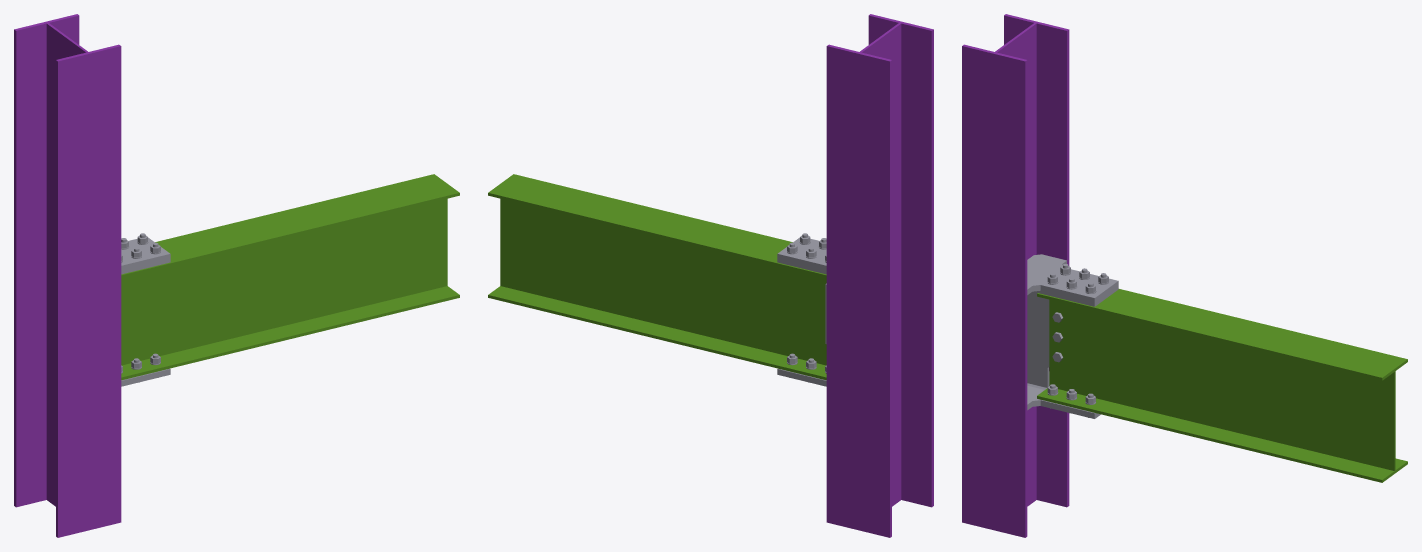
Rendered from Flange Plated Moment GLB.glb.
3 renders of one model, left to right at view 1: azimuth 30°, elevation 25°; view 2: azimuth 150°, elevation 25°; view 3: azimuth 330°, elevation 25°, orthographic.
Parts seen in each view (by area): view 1: FamilyInstance Columns COLUMN <1240810 COLUMN<, FamilyInstance Structural Framing BEAM <1241227 BEAM<, FamilyInstance Structural Framing PLATE 209 <1241830 PLATE 2; view 2: FamilyInstance Columns COLUMN <1240810 COLUMN<, FamilyInstance Structural Framing BEAM <1241227 BEAM<, FamilyInstance Structural Framing PLATE 209 <1241830 PLATE 2; view 3: FamilyInstance Columns COLUMN <1240810 COLUMN<, FamilyInstance Structural Framing BEAM <1241227 BEAM<, FamilyInstance Structural Framing PLATE 209 <1241830 PLATE 2, FamilyInstance Structural Framing PLATE 209 <1241829 PLATE 2, FamilyInstance Specialty Equipment BOLT 3/4"DIA A325 3" <124.
Boxes of the visible parts, bbox=[...] form: FamilyInstance Columns COLUMN <1240810 COLUMN<: bbox=[14, 14, 160, 537]; FamilyInstance Structural Framing BEAM <1241227 BEAM<: bbox=[121, 174, 459, 380]; FamilyInstance Structural Framing PLATE 209 <1241830 PLATE 2: bbox=[121, 237, 170, 271]; FamilyInstance Columns COLUMN <1240810 COLUMN<: bbox=[787, 14, 933, 537]; FamilyInstance Structural Framing BEAM <1241227 BEAM<: bbox=[488, 174, 826, 380]; FamilyInstance Structural Framing PLATE 209 <1241830 PLATE 2: bbox=[777, 237, 826, 271]; FamilyInstance Columns COLUMN <1240810 COLUMN<: bbox=[962, 14, 1096, 537]; FamilyInstance Structural Framing BEAM <1241227 BEAM<: bbox=[1037, 289, 1407, 482]; FamilyInstance Structural Framing PLATE 209 <1241830 PLATE 2: bbox=[1027, 254, 1118, 303]; FamilyInstance Structural Framing PLATE 209 <1241829 PLATE 2: bbox=[1027, 371, 1100, 418]; FamilyInstance Specialty Equipment BOLT 3/4"DIA A325 3" <124: bbox=[1047, 264, 1108, 293].
Size of the model in its own units: 65 by 72 by 12.
